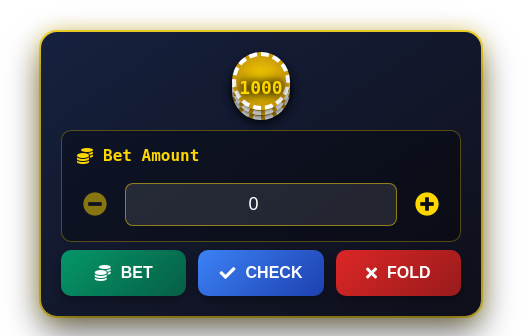
Test case: PokerHUD.vue › decreases bet amount when decrement button is clicked
Set initial value first
Replace the text in the number field with class "bet-input" with "50" at [261, 204], box x1=125 y1=183 x2=397 y2=226
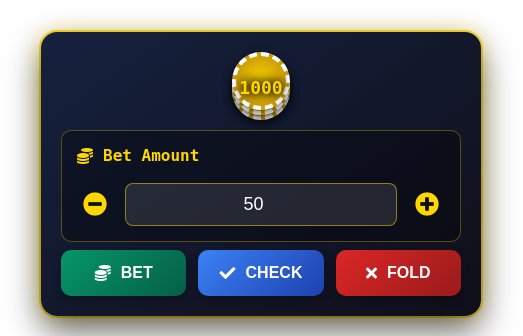
Click the 1st button with class "bet-btn" at [95, 204], box x1=77 y1=190 x2=113 y2=220
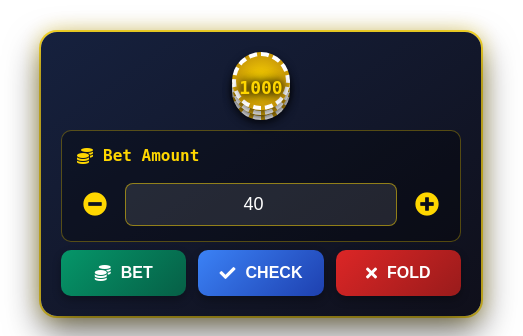
Expected: the number field with class "bet-input" holds "40", x1=125 y1=183 x2=397 y2=226
Click multiple times
Click the 1st button with class "bet-btn" at [95, 204], box x1=77 y1=190 x2=113 y2=220
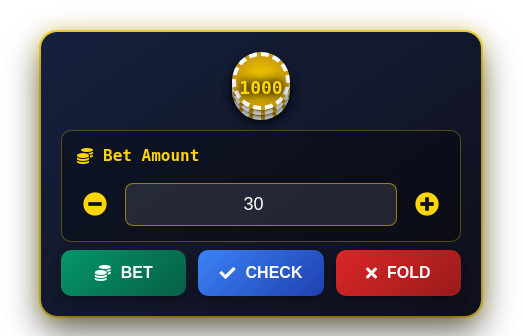
Click the 1st button with class "bet-btn" at [95, 204], box x1=77 y1=190 x2=113 y2=220
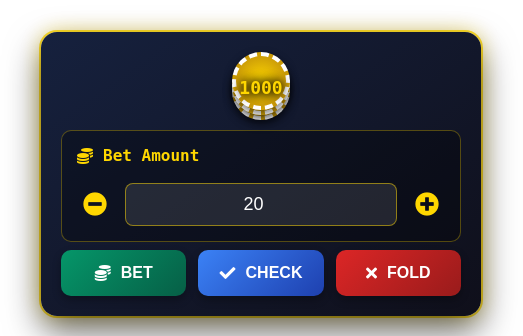
Expected: the number field with class "bet-input" holds "20", x1=125 y1=183 x2=397 y2=226
